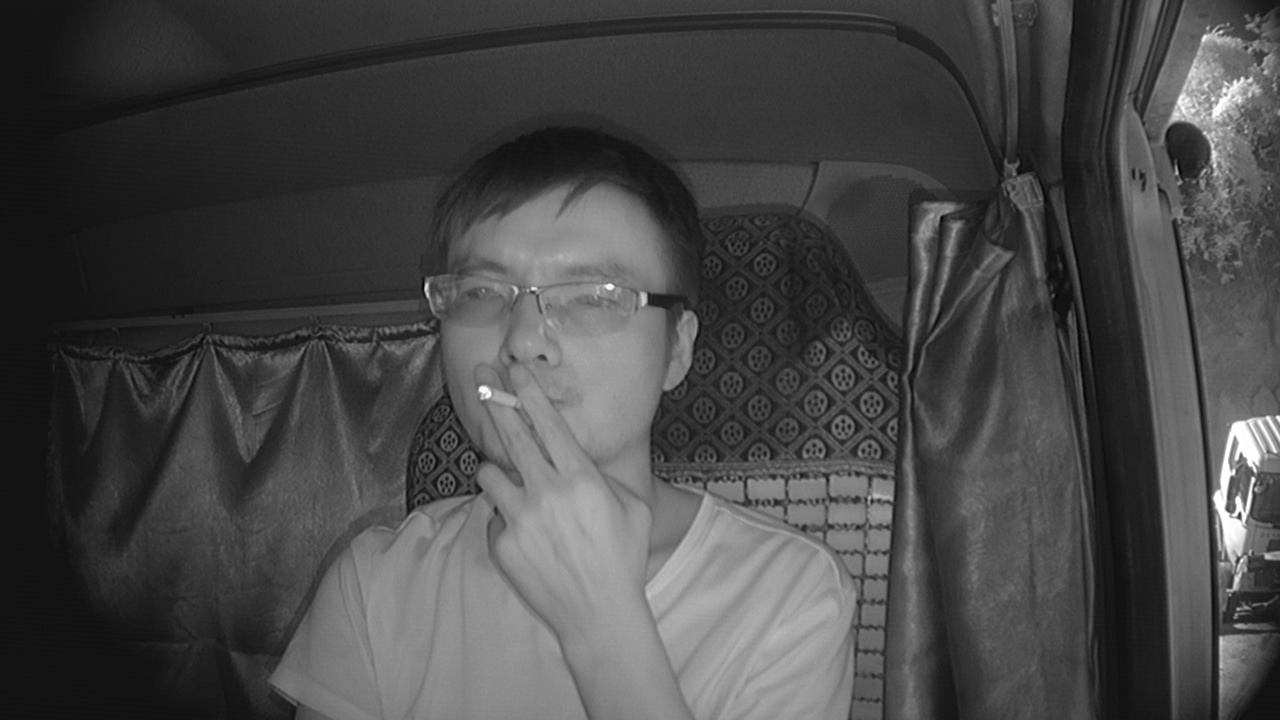hand: (462, 363, 633, 584)
